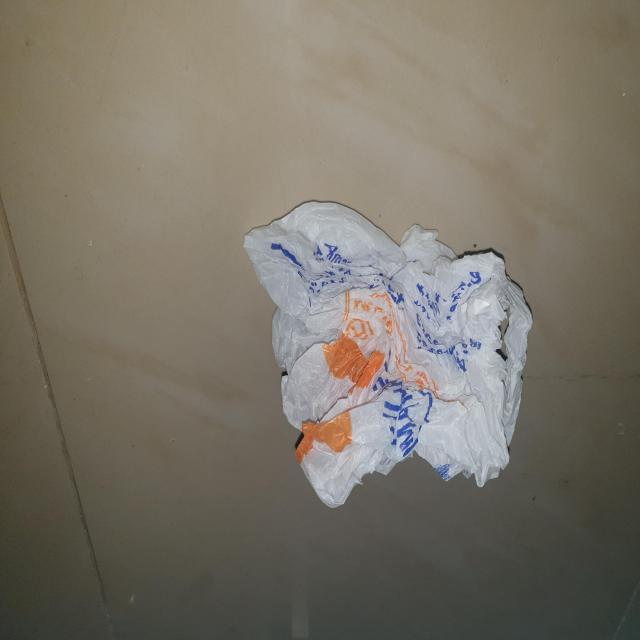plastic bag: (242, 194, 534, 506)
